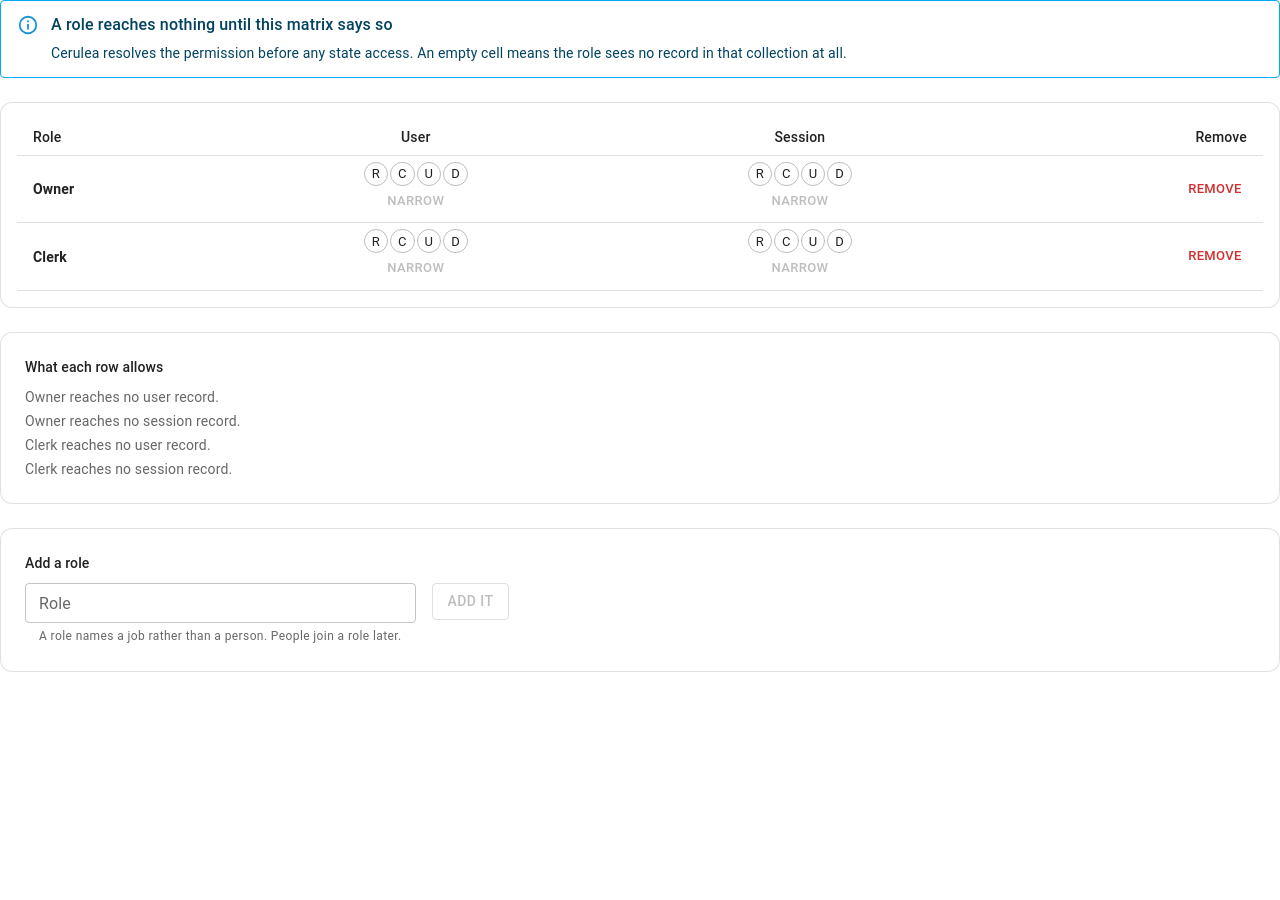
Test case: the roles of the matrix › adds a role that reaches nothing yet
Type "Harbour master" into the field labelled "Role" at (220, 603), box [25, 583, 416, 623]
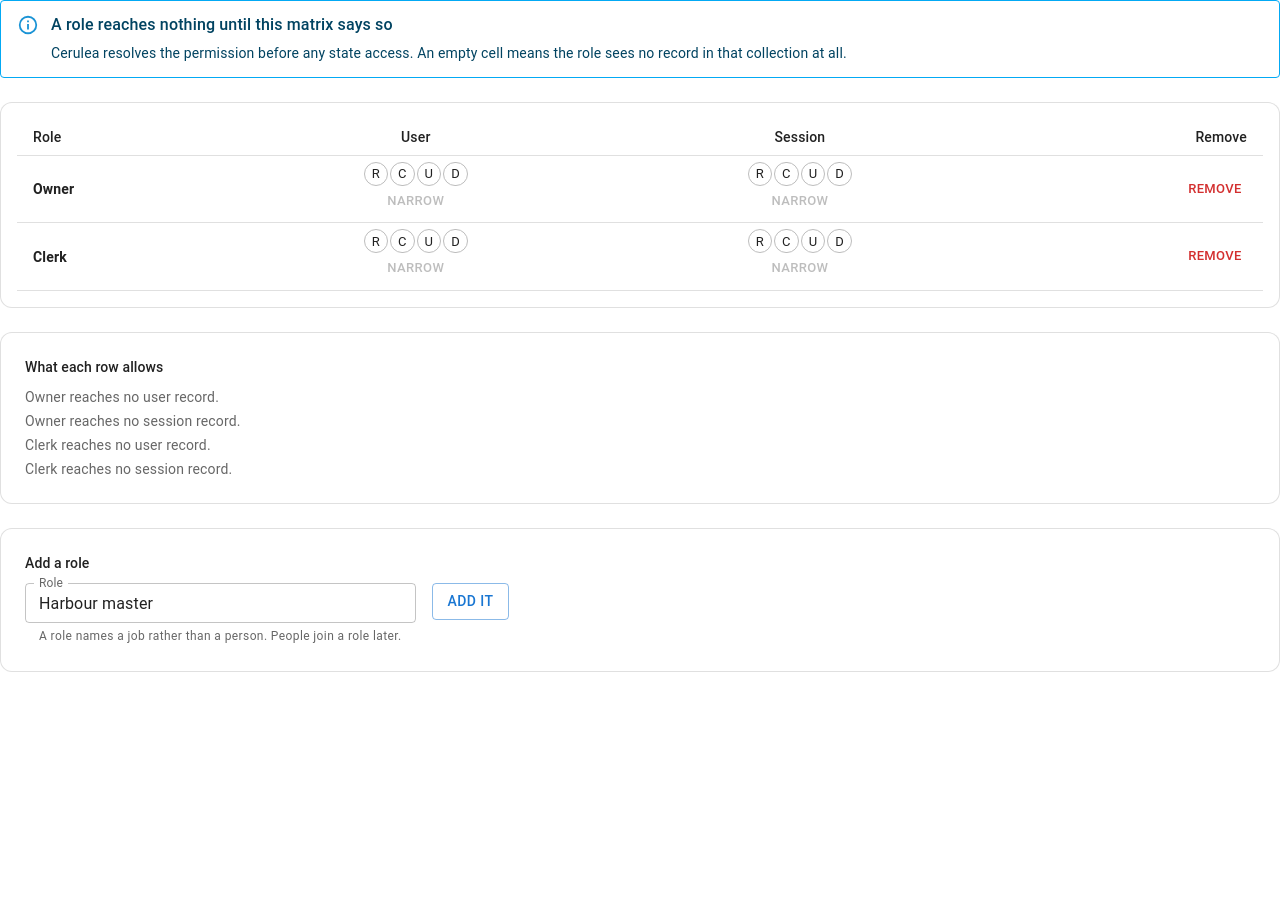
Click the button "Add it" at (470, 601), box [432, 583, 509, 620]
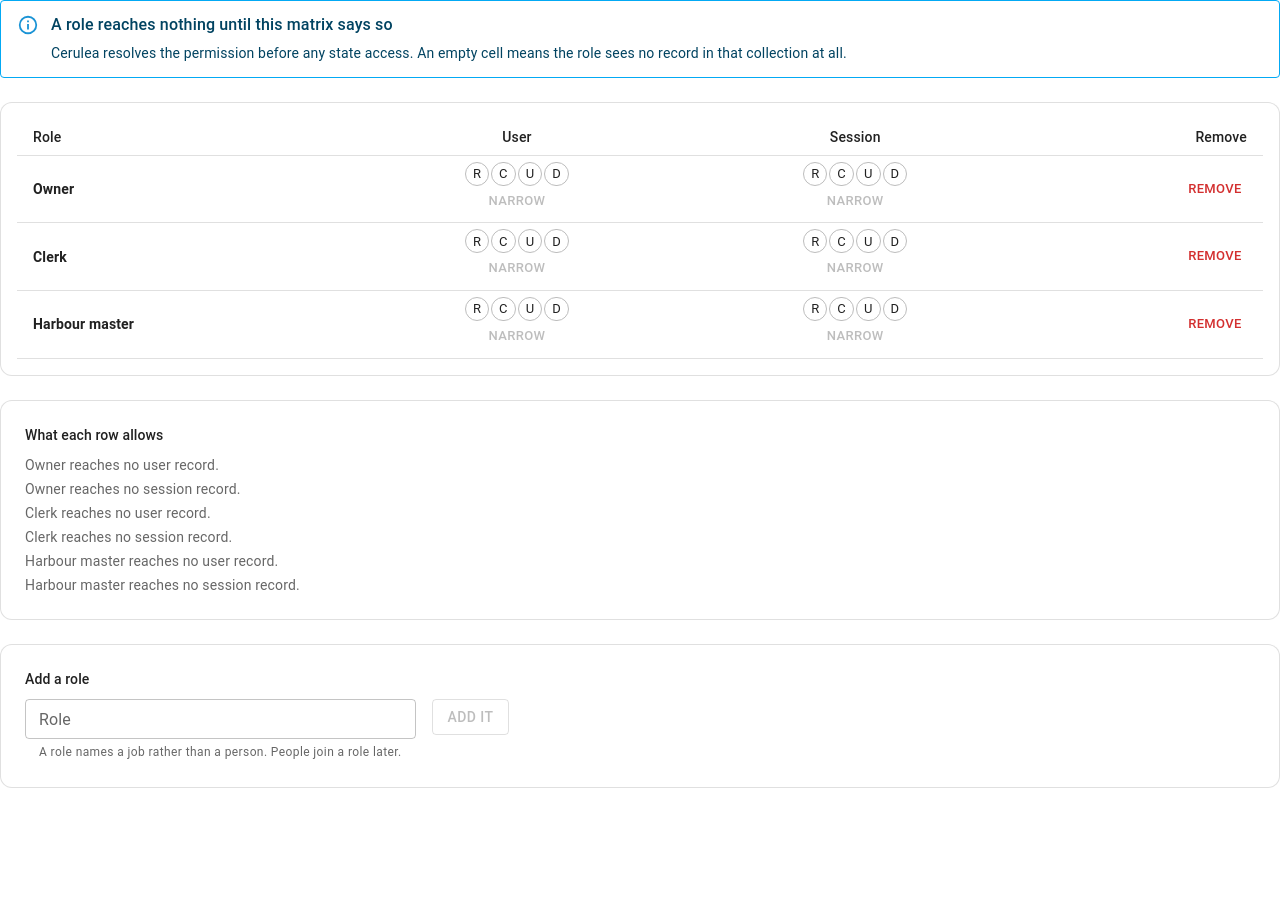
Now the text "Harbour master reaches no user record." is shown, box [25, 553, 278, 569]
Now the field labelled "Role" is empty, box [25, 699, 416, 739]
